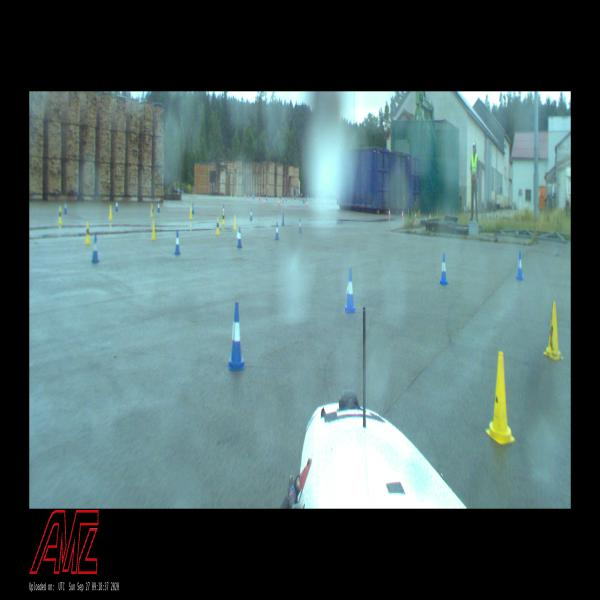blue_cone: (228, 303, 245, 369), (344, 270, 356, 312), (439, 252, 449, 284), (516, 252, 523, 280), (92, 236, 99, 262), (174, 232, 180, 255), (237, 227, 242, 247), (274, 222, 279, 240), (299, 218, 302, 232), (64, 201, 67, 214), (157, 201, 160, 212), (192, 203, 195, 214), (282, 213, 284, 226), (250, 209, 252, 220), (116, 202, 118, 212)
orange_cone: (402, 211, 404, 219), (415, 212, 417, 220), (388, 209, 390, 216)
yellow_cone: (485, 352, 516, 444), (544, 302, 562, 359), (84, 222, 91, 244), (152, 221, 156, 240), (58, 206, 62, 223), (216, 217, 220, 234), (222, 211, 226, 225), (150, 204, 154, 217), (109, 206, 112, 219), (190, 207, 193, 219), (234, 215, 236, 230)
